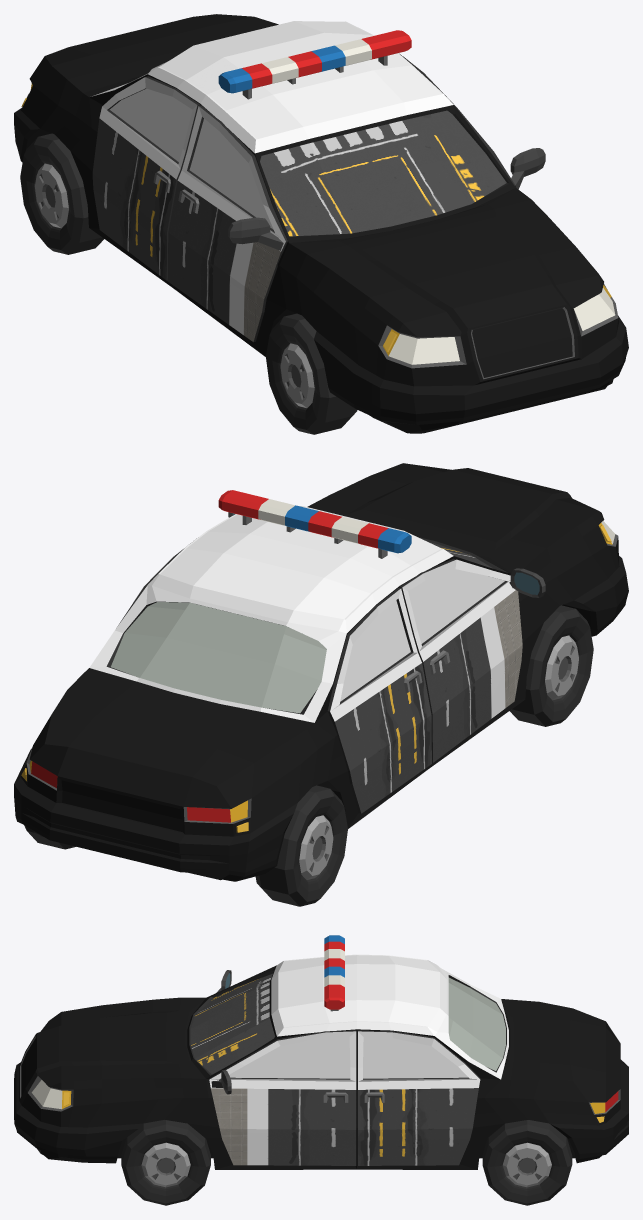
The model's file is Car_Police.fbx.
3 views of the same model, one above another, from view 1: azimuth 30°, elevation 25°; view 2: azimuth 150°, elevation 25°; view 3: azimuth 270°, elevation 25° (orthographic). The views are drawn at different scales.
Visible parts, largest first — view 1: Car_Police, Car_base.005, Car_base.006, Wheel_Big_FrontL.006, Wheel_Big_FrontL.004, Car_base.000; view 2: Car_Police, Car_base.005, Car_base.006, Wheel_Big_FrontL.006, Wheel_Big_FrontL.004; view 3: Car_Police, Car_base.000, Car_base.004, Wheel_Big_FrontL.005, Wheel_Big_FrontL.003.
Boxes of the visible parts, x1,y1,x2,y2 form: Car_Police: (14,14,628,433); Car_base.005: (167,105,287,342); Car_base.006: (92,76,200,280); Wheel_Big_FrontL.006: (20,133,103,254); Wheel_Big_FrontL.004: (266,313,357,434); Car_base.000: (402,56,545,189); Car_Police: (14,463,628,881); Car_base.005: (400,558,545,762); Car_base.006: (327,587,431,813); Wheel_Big_FrontL.006: (255,785,347,906); Wheel_Big_FrontL.004: (510,605,593,726); Car_Police: (14,935,628,1169); Car_base.000: (209,1030,356,1165); Car_base.004: (358,1030,480,1165); Wheel_Big_FrontL.005: (482,1120,572,1205); Wheel_Big_FrontL.003: (121,1120,210,1205).
Bounding box in the file's own units: 286 × 226 × 656.
